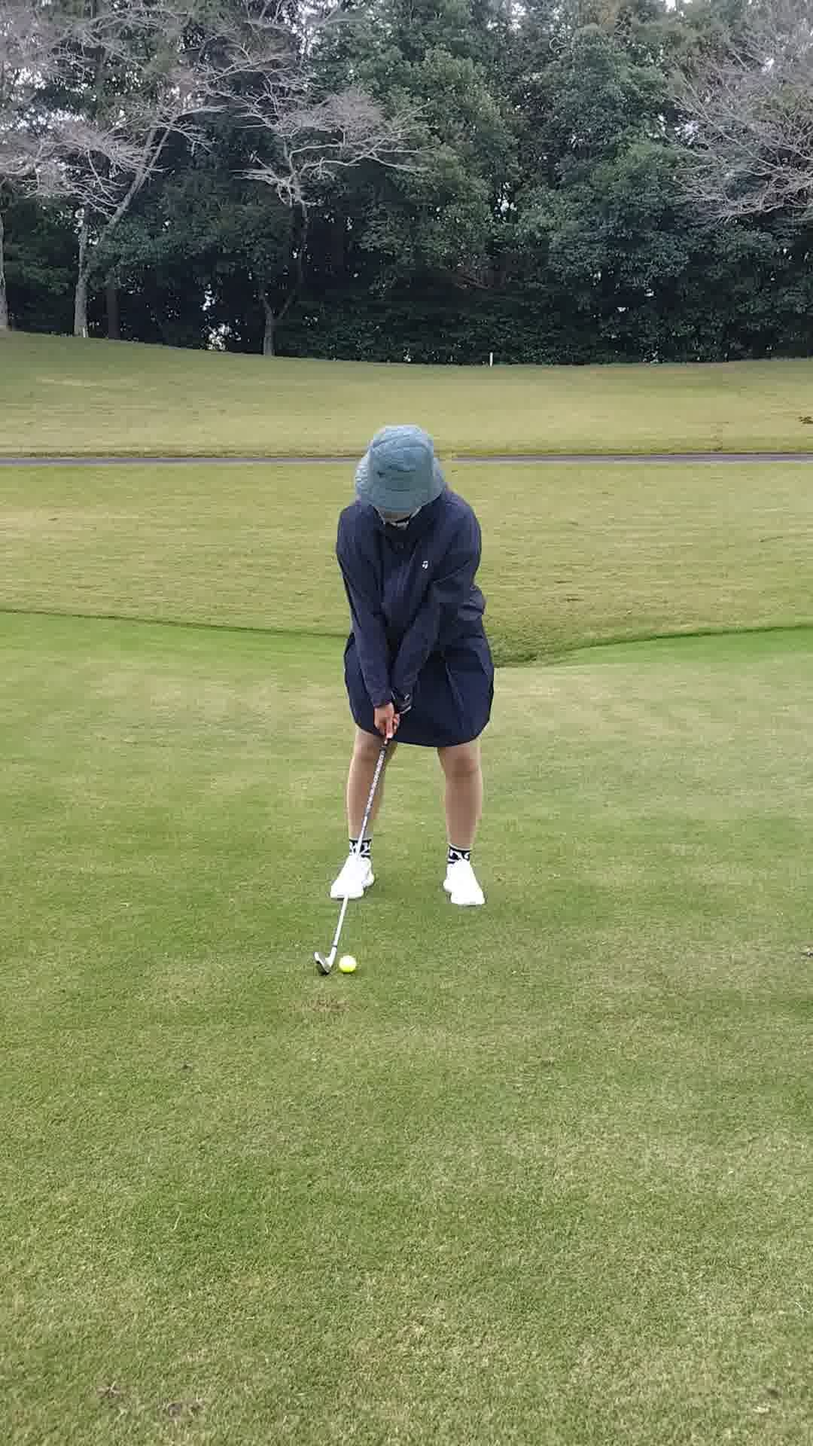clubhead: (249, 915, 387, 1013)
